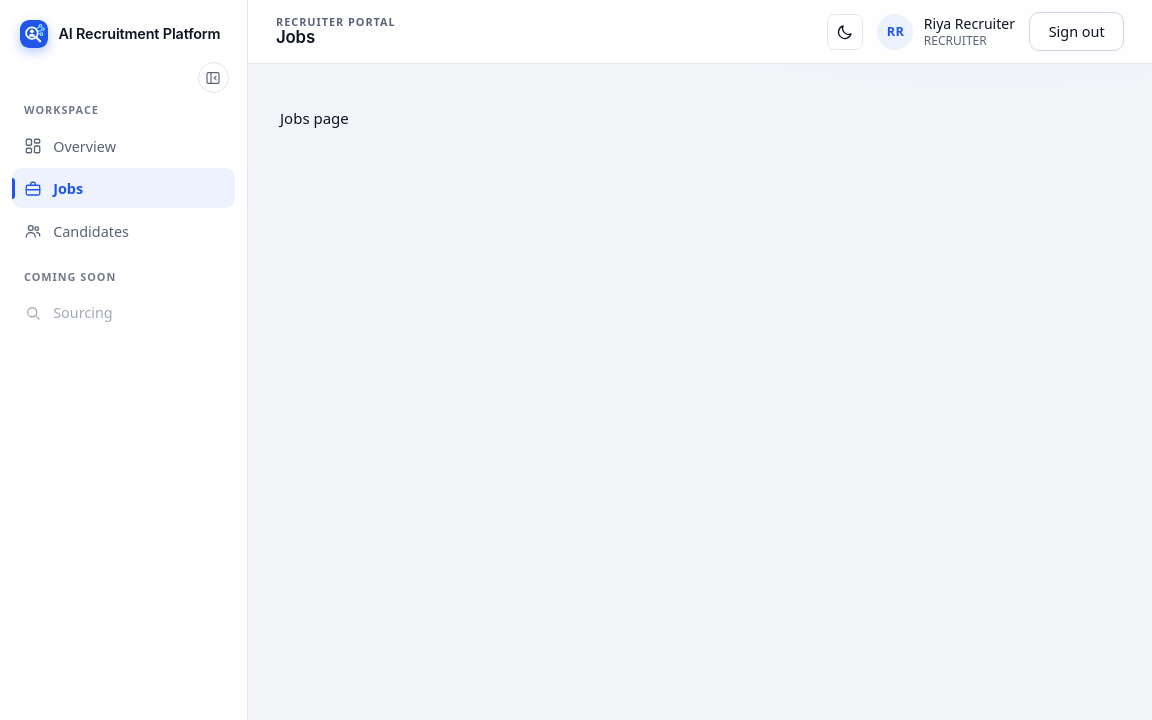
Test: AppShell › hides any open tooltip immediately when the sidebar is collapsed or expanded
Click the button named "Collapse sidebar".
click(213, 78)  # box [198,62,229,93]
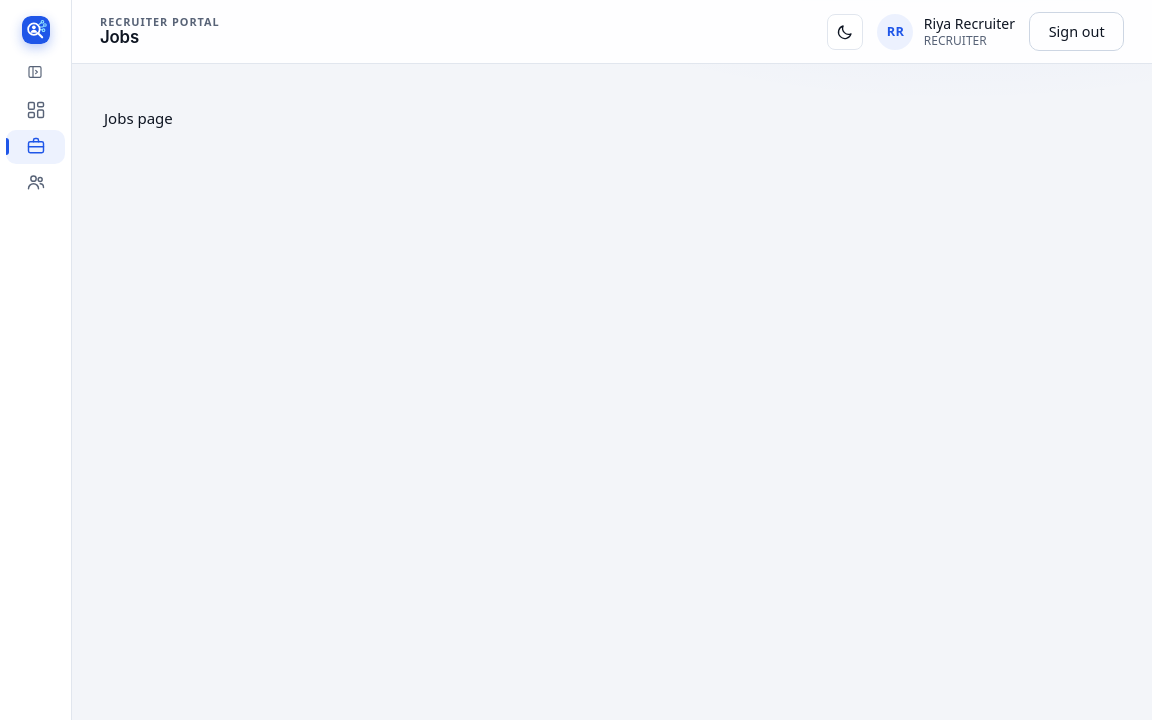
Hover over the 2nd link named "Jobs".
mouse_move(36, 146)  # box [26,136,46,156]
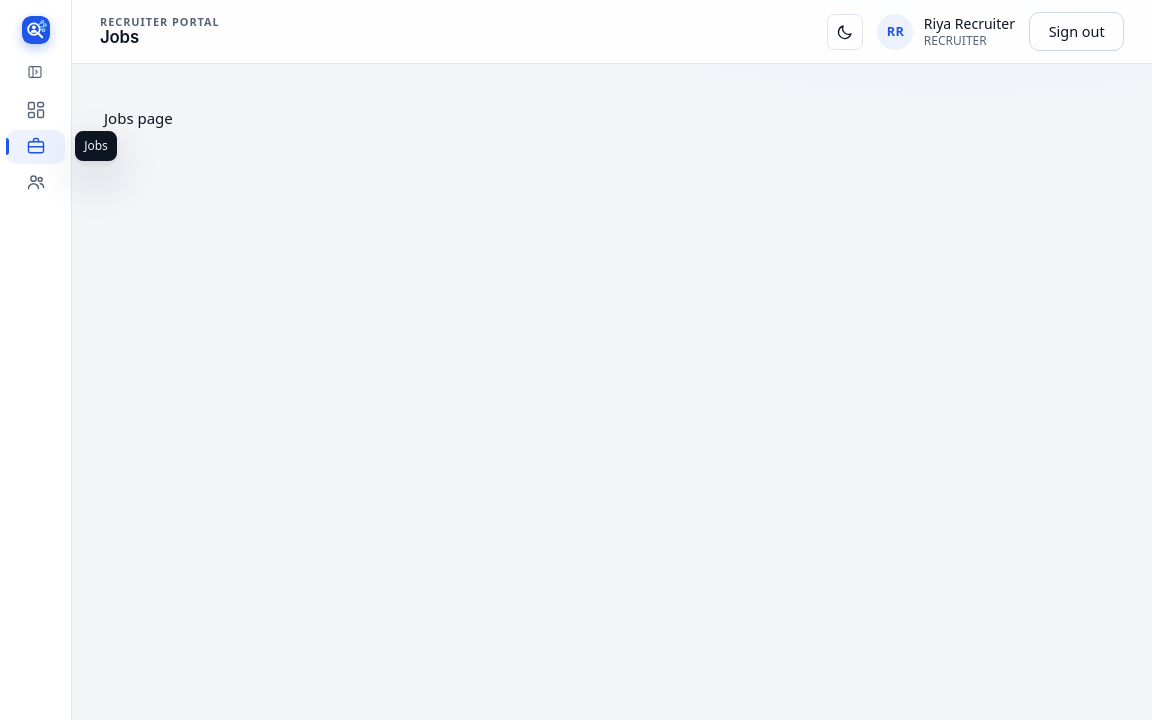
Result: the text with class "shell-tooltip" is shown at [75,132,118,161]
Click the button named "Expand sidebar".
click(36, 72)  # box [20,57,51,87]
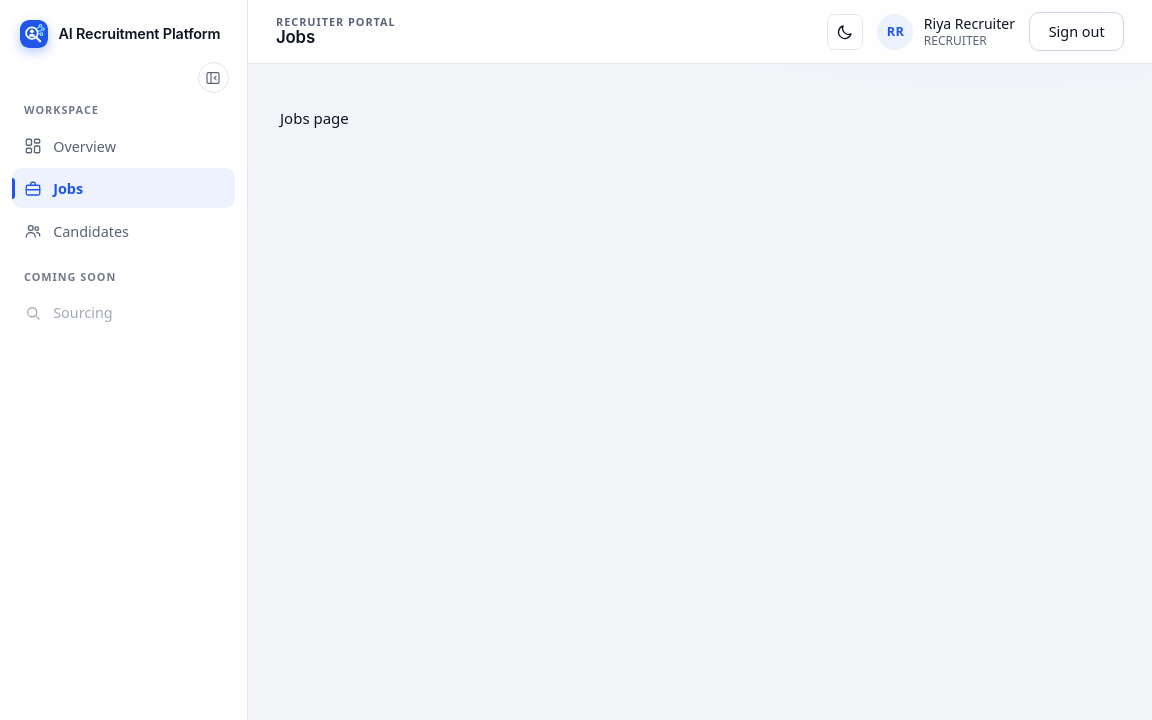
Result: the text with class "shell-tooltip" is gone
